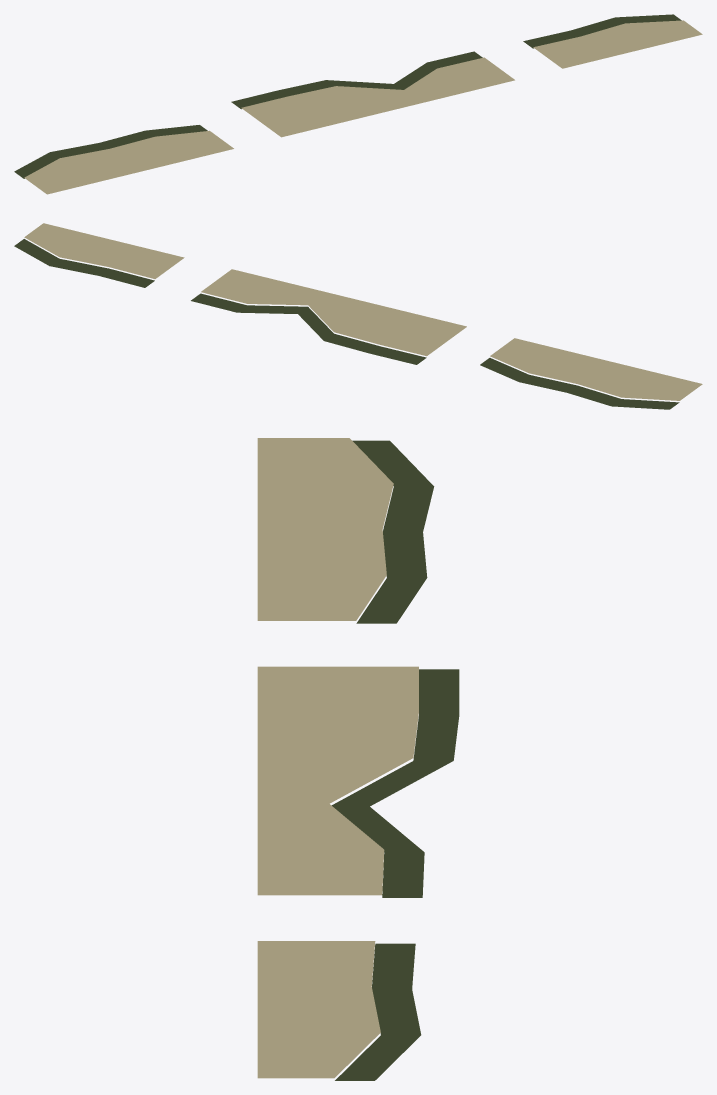
File: drowned_foam_strip.glb
3 renders of one model, top to bottom at view 1: azimuth 30°, elevation 25°; view 2: azimuth 150°, elevation 25°; view 3: azimuth 270°, elevation 25°, orthographic. The views are drawn at different scales.
Parts seen in each view (by area): view 1: drowned_foam_strip; view 2: drowned_foam_strip; view 3: drowned_foam_strip.
Part boxes in pixels (<box>): drowned_foam_strip: <box>14,14,702,194</box>; drowned_foam_strip: <box>14,223,702,409</box>; drowned_foam_strip: <box>257,438,459,1080</box>.
Bounding box in the file's own units: 3 × 0.006 × 0.3996.
